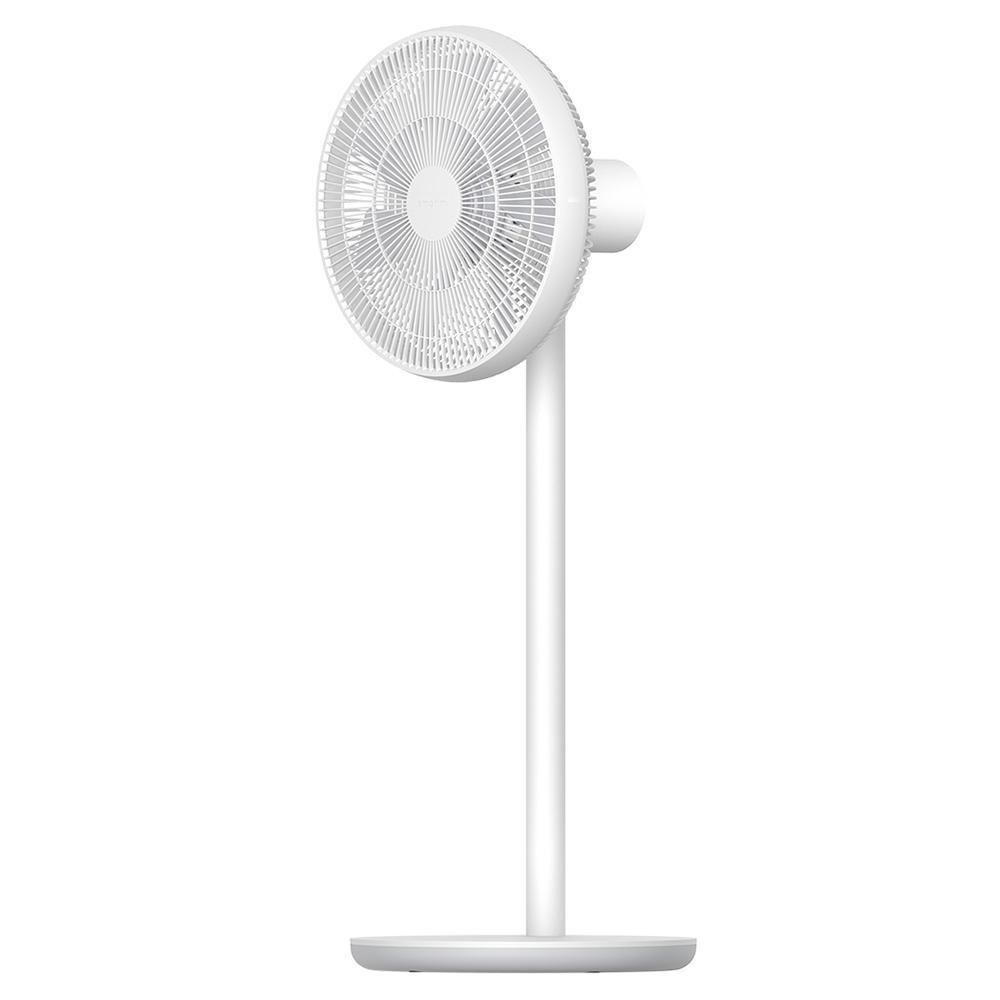fan: (311, 24, 712, 984)
